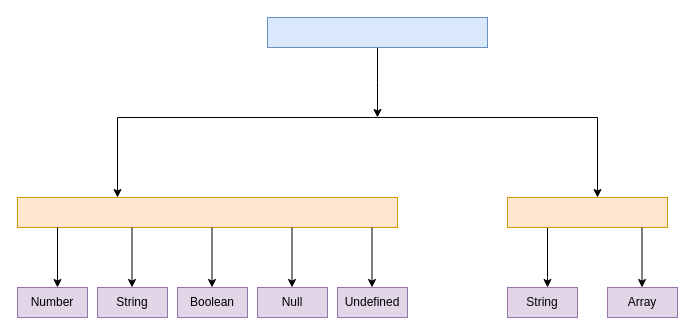
The diagram is 695 pixels wide and 335 high, and some of its shapes have lost their labels. The shapes that lost their labels are listed below. From the top down, each one's centre as x and y in pixels, then its label:
At point 377,32: "Data Types".
At point 207,212: "Primitive Data Types.".
At point 587,212: "Non-Primitive Data Types.".
